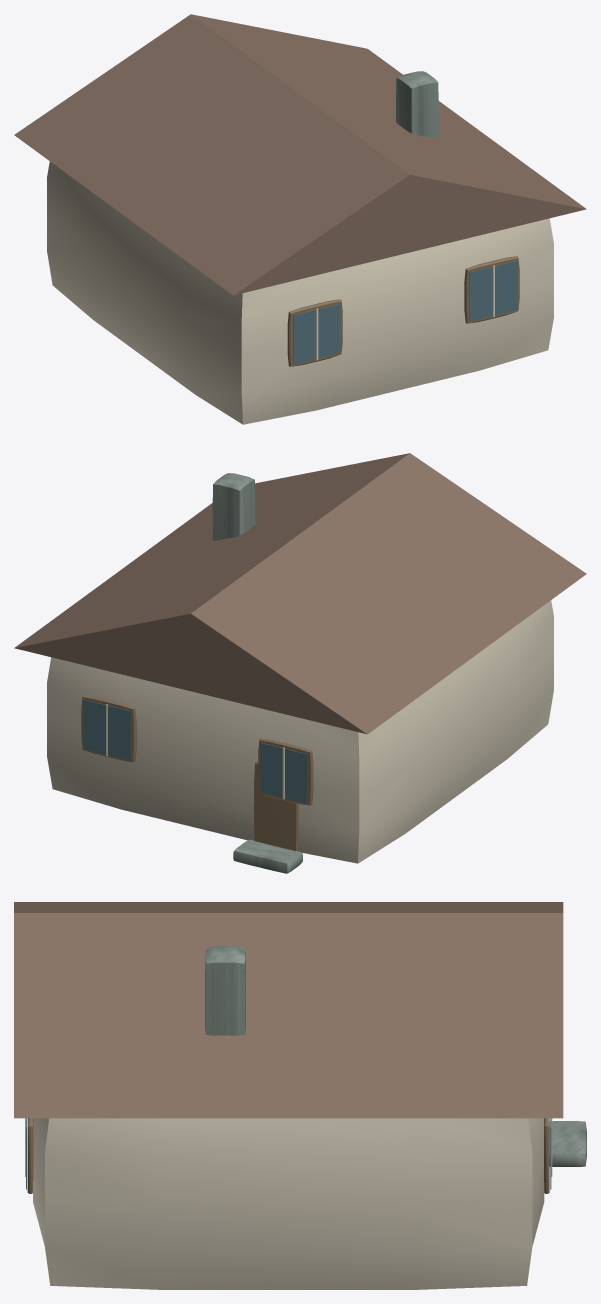
Rendered from farmhouse_variant_03.glb.
3 renders of one model, top to bottom at view 1: azimuth 30°, elevation 25°; view 2: azimuth 150°, elevation 25°; view 3: azimuth 270°, elevation 25°, orthographic. The views are drawn at different scales.
Parts seen in each view (by area): view 1: gable_roof, static_plaster, static_window_building, static_stone, static_wood; view 2: gable_roof, static_plaster, static_window_building, static_stone, static_wood; view 3: gable_roof, static_plaster, static_stone, static_wood.
Part boxes in pixels (x1=…): gable_roof: x1=14, y1=14, x2=586, y2=295; static_plaster: x1=47, y1=161, x2=553, y2=424; static_window_building: x1=293, y1=260, x2=517, y2=364; static_stone: x1=396, y1=71, x2=438, y2=138; static_wood: x1=287, y1=256, x2=519, y2=366; gable_roof: x1=14, y1=453, x2=586, y2=734; static_plaster: x1=47, y1=600, x2=553, y2=863; static_window_building: x1=83, y1=699, x2=307, y2=803; static_stone: x1=212, y1=473, x2=302, y2=873; static_wood: x1=81, y1=695, x2=313, y2=851; gable_roof: x1=14, y1=902, x2=563, y2=1118; static_plaster: x1=25, y1=1118, x2=552, y2=1289; static_stone: x1=205, y1=946, x2=586, y2=1166; static_wood: x1=27, y1=1118, x2=549, y2=1193.
Size of the model in its own units: 8.1 by 5.3 by 9.07.
5 materials, 1 textured.
